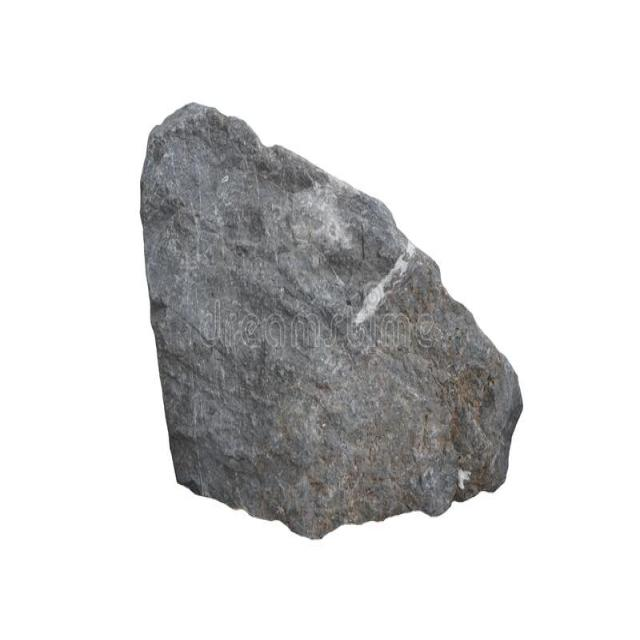Sedimentary: (140, 86, 522, 526)
